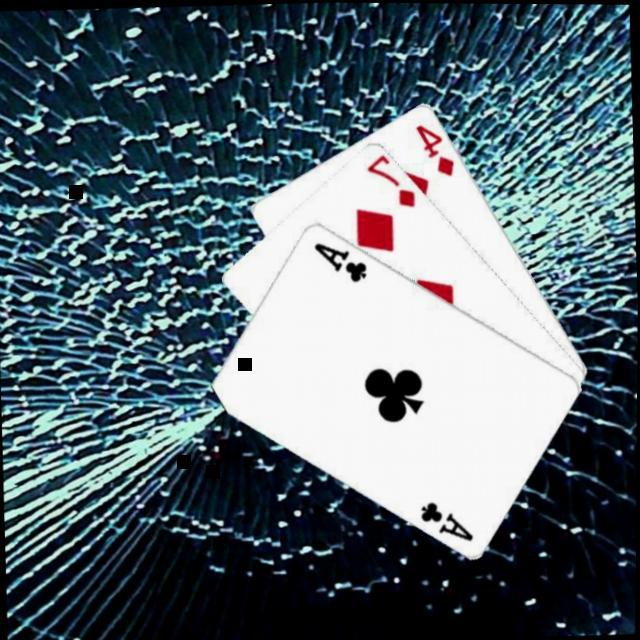4D: (410, 118, 456, 178)
7D: (361, 150, 416, 210)
AC: (414, 494, 476, 543), (308, 236, 368, 284)
